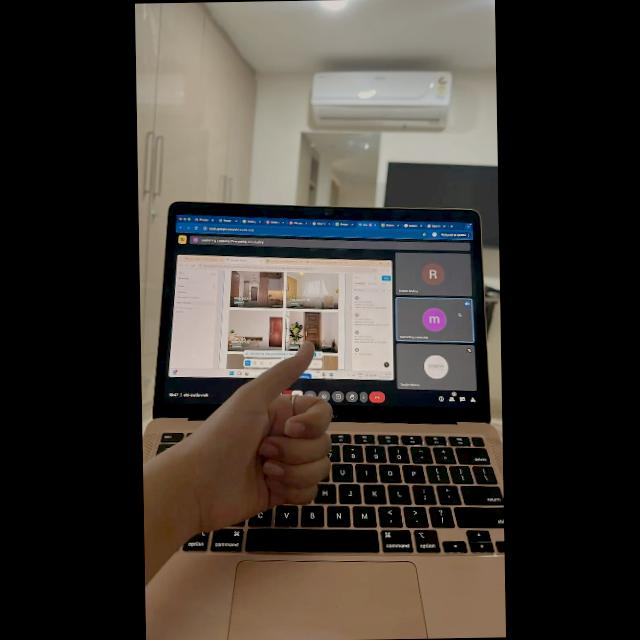laptop: (142, 200, 505, 640)
